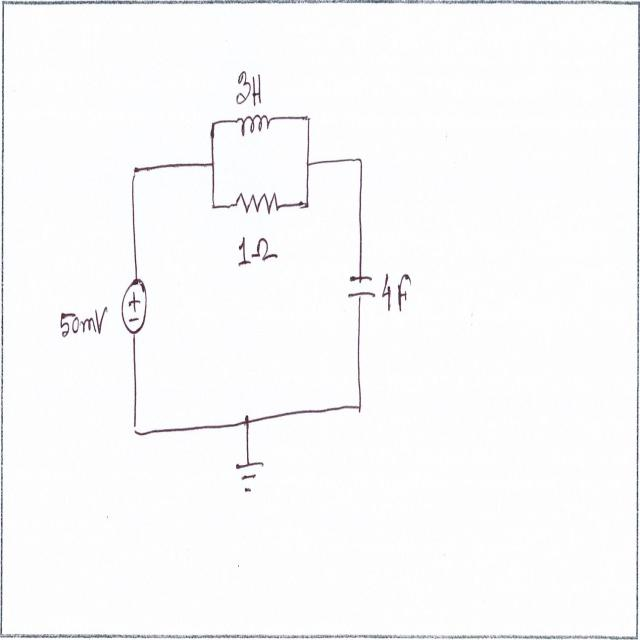capacitor: (345, 266, 378, 313)
ground: (232, 454, 268, 499)
inductor: (234, 107, 272, 143)
resistor: (234, 185, 279, 222)
voltage_source: (121, 270, 148, 336)
